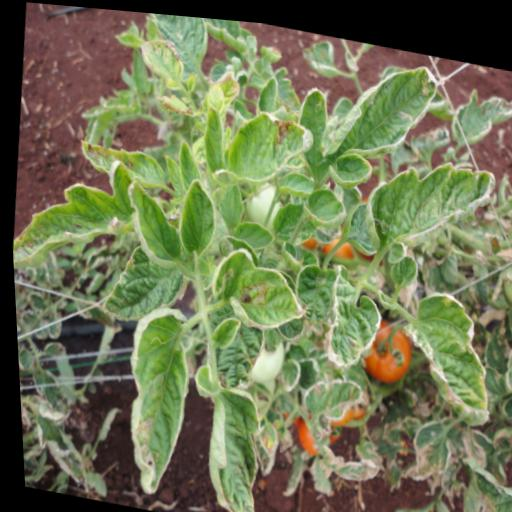Yellow Leaf Curl Virus: (283, 34, 448, 211), (9, 136, 143, 297), (103, 290, 198, 503), (390, 272, 504, 433), (350, 134, 501, 252), (184, 83, 321, 212), (169, 361, 285, 512), (202, 234, 312, 339), (312, 253, 390, 369), (113, 179, 195, 274), (155, 164, 222, 257)
